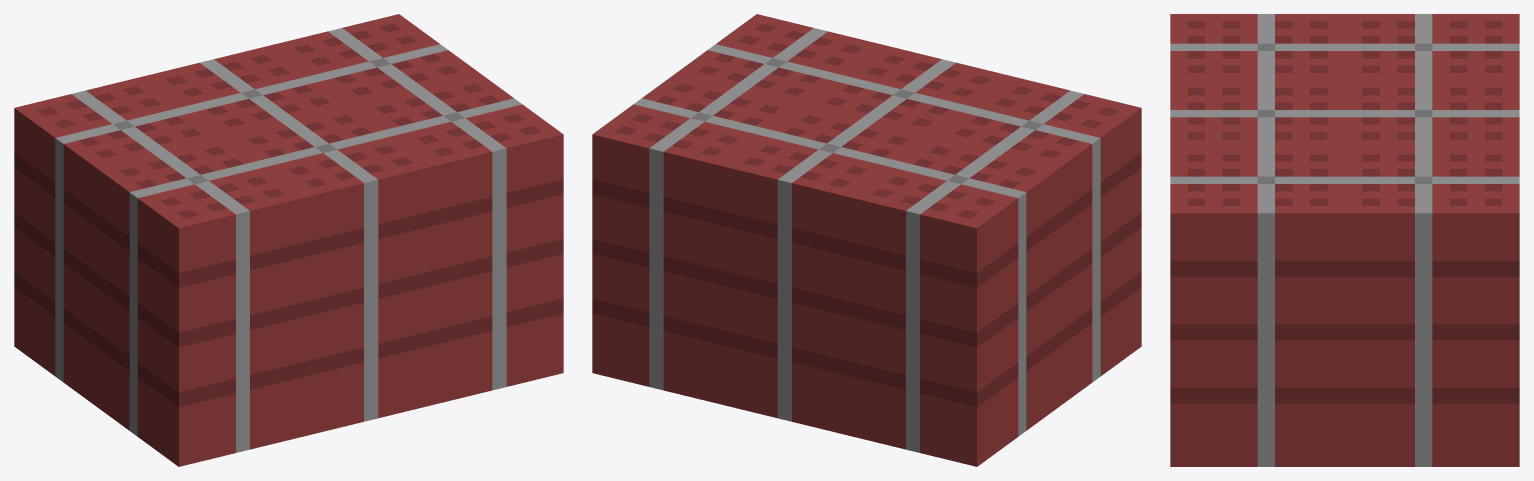
File: bricks.obj
3 views of the same model, side by side, from view 1: azimuth 30°, elevation 25°; view 2: azimuth 150°, elevation 25°; view 3: azimuth 270°, elevation 25° (orthographic). The views are drawn at different scales.
Size of the model in its own units: 2.7 by 1.6 by 2.
1 material, 1 textured.
